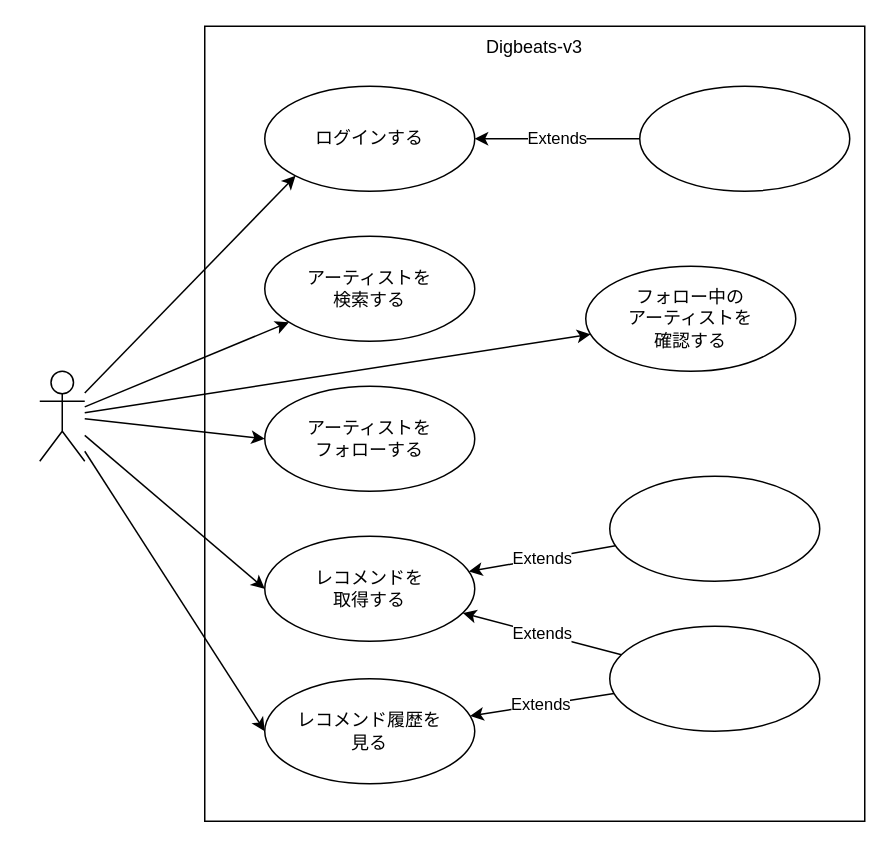
Some shapes in this 891 by 848 pixel diagram are drawn without their labels. The shapes that lost their labels are listed below. From the top down, each one's centre as x and y in pixels, then its label:
At pixel 744 138: "セッションが切れたら 再ログイン".
At pixel 61 415: "ユーザー".
At pixel 714 528: "プレビューを 再生する".
At pixel 714 678: "曲を いいねする".
